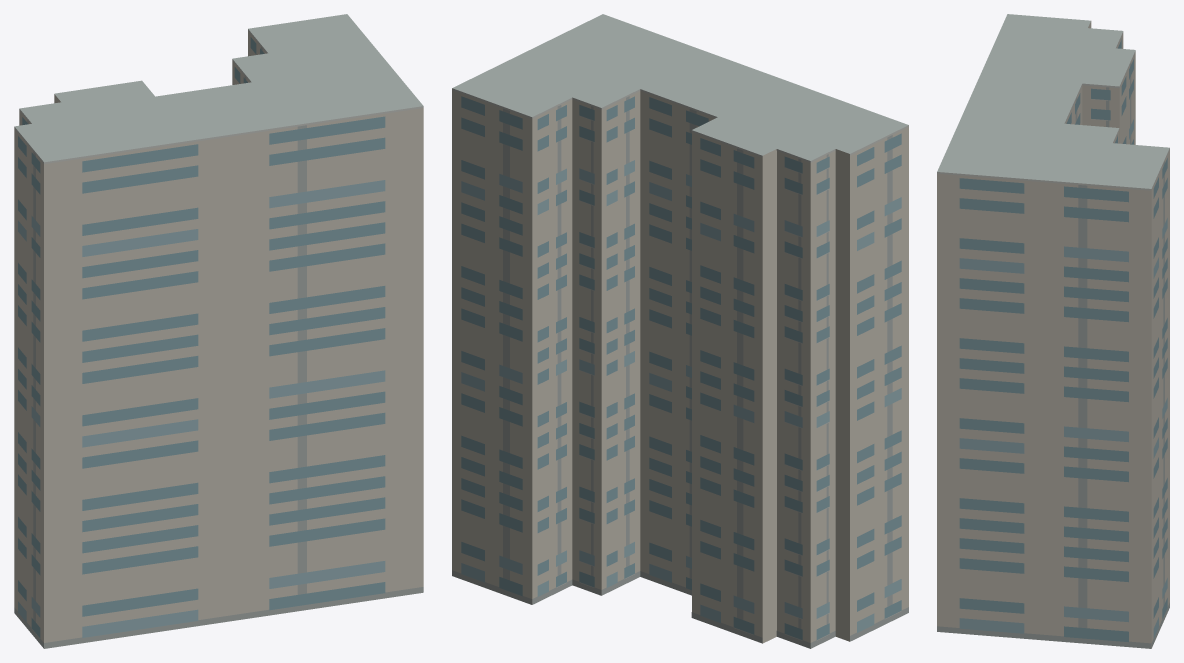
File: residential-faf87140-fa14-4d2e-97fb-938d105ab8d8.glb
3 views of the same model, side by side, from view 1: azimuth 30°, elevation 25°; view 2: azimuth 150°, elevation 25°; view 3: azimuth 270°, elevation 25° (orthographic). The views are drawn at different scales.
Visible parts, largest first — view 1: residential-faf87140-fa14-4d2e-97fb-938d105ab8d8.tmp; view 2: residential-faf87140-fa14-4d2e-97fb-938d105ab8d8.tmp; view 3: residential-faf87140-fa14-4d2e-97fb-938d105ab8d8.tmp.
Boxes of the visible parts, x1,y1,x2,y2 form: residential-faf87140-fa14-4d2e-97fb-938d105ab8d8.tmp: (14, 14, 423, 648); residential-faf87140-fa14-4d2e-97fb-938d105ab8d8.tmp: (452, 14, 908, 648); residential-faf87140-fa14-4d2e-97fb-938d105ab8d8.tmp: (937, 14, 1169, 648).
Size of the model in its own units: 53.04 by 65 by 29.83.
